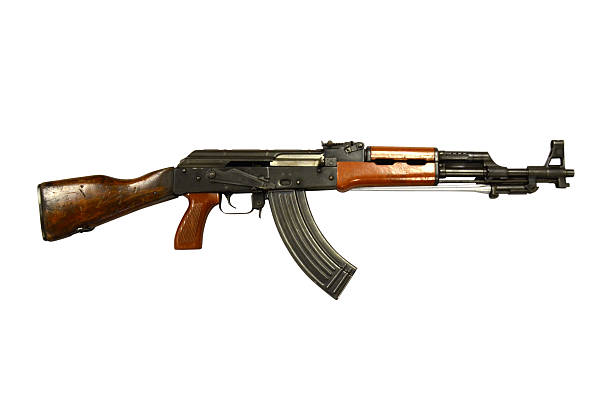rifle: (33, 127, 589, 307)
